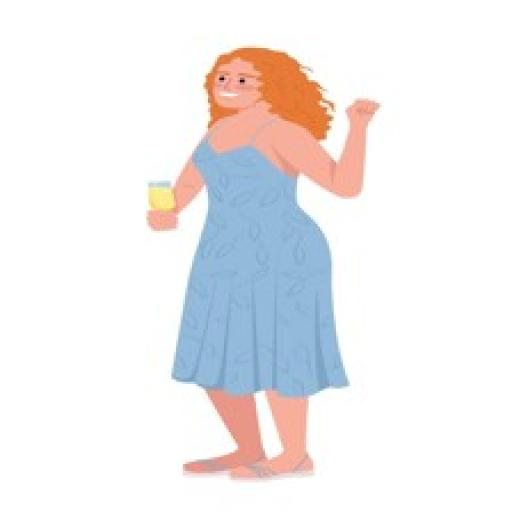human: (130, 42, 383, 486)
